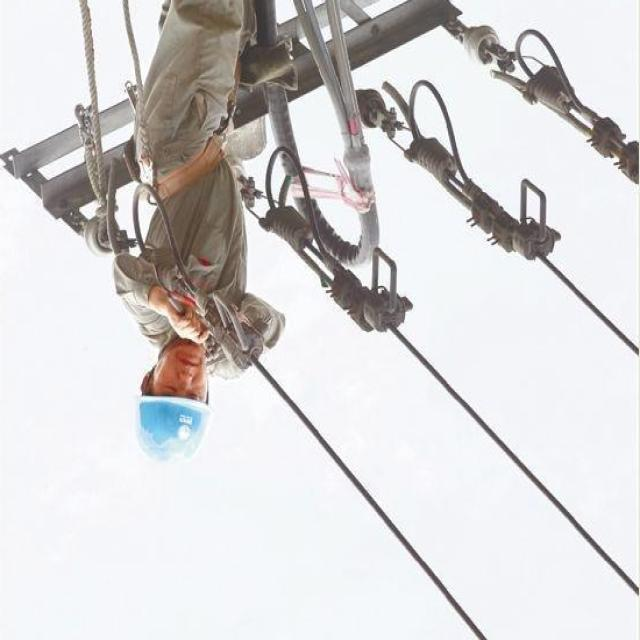helmet: (128, 392, 225, 466)
